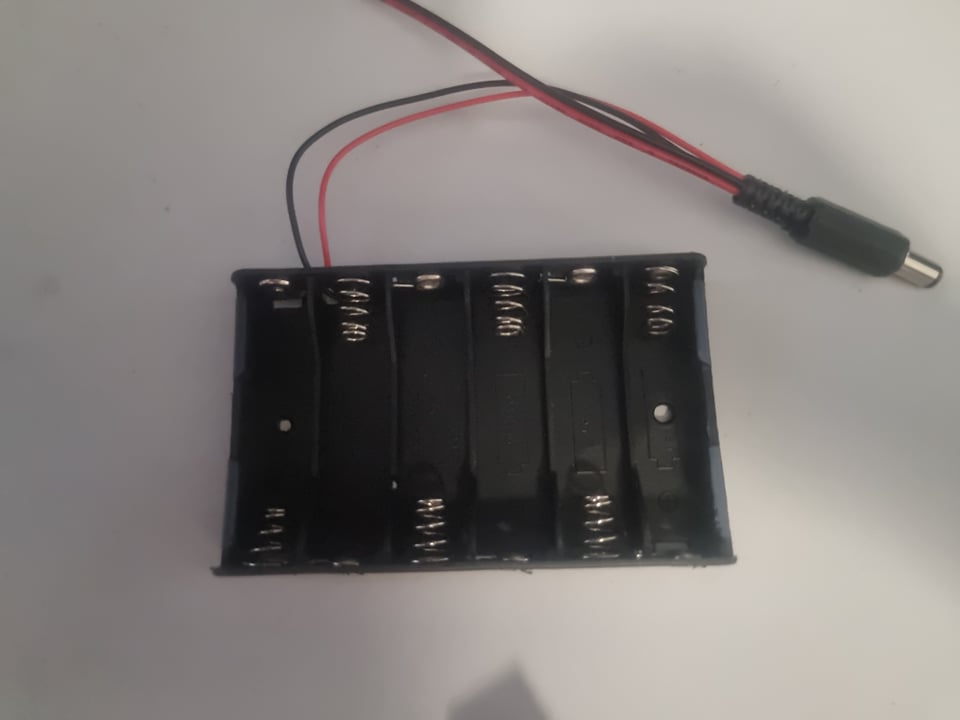BATTERY BOX: (214, 251, 738, 579)
